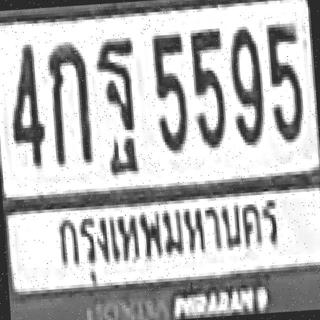A01: (46, 39, 92, 163)
A16: (93, 34, 138, 155)
N04: (5, 41, 45, 167)
N05: (149, 31, 189, 151), (264, 20, 303, 140), (188, 25, 226, 146)
N09: (227, 22, 264, 143)
P04: (47, 190, 284, 270)
